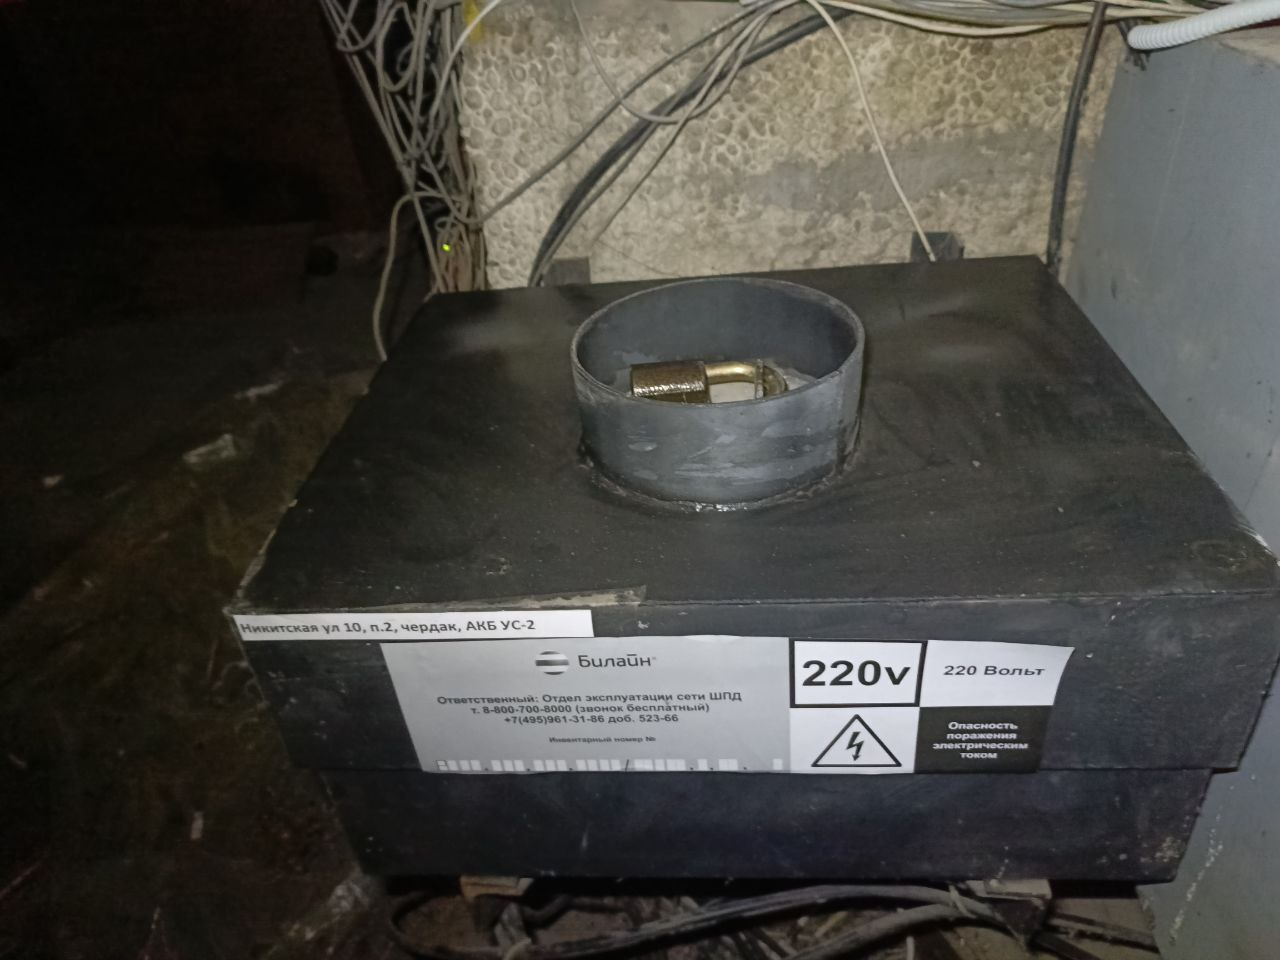shta-ps: (215, 246, 1276, 890)
